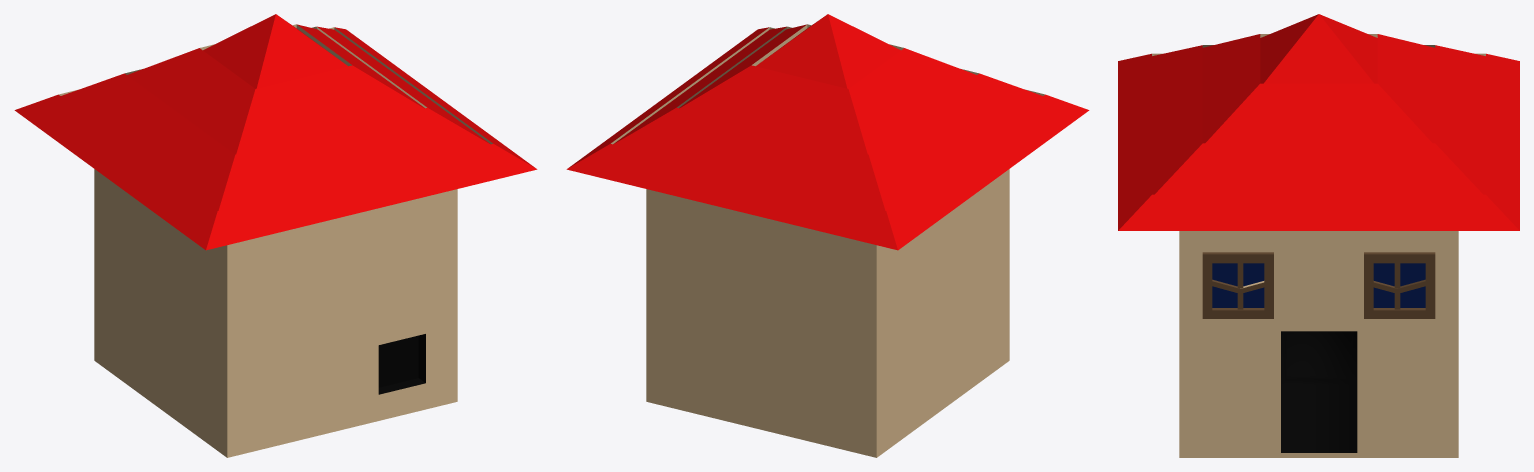
The model's file is SM_Evil_House.fbx.
3 renders of one model, left to right at view 1: azimuth 30°, elevation 25°; view 2: azimuth 150°, elevation 25°; view 3: azimuth 270°, elevation 25°, orthographic. The views are drawn at different scales.
Parts seen in each view (by area): view 1: Evil_House; view 2: Evil_House; view 3: Evil_House.
Boxes of the visible parts, box(x1,y1,x2,y2) form: Evil_House: box(14, 14, 537, 457); Evil_House: box(566, 14, 1089, 457); Evil_House: box(1118, 14, 1519, 457).
Size of the model in its own units: 723 by 765 by 723.
